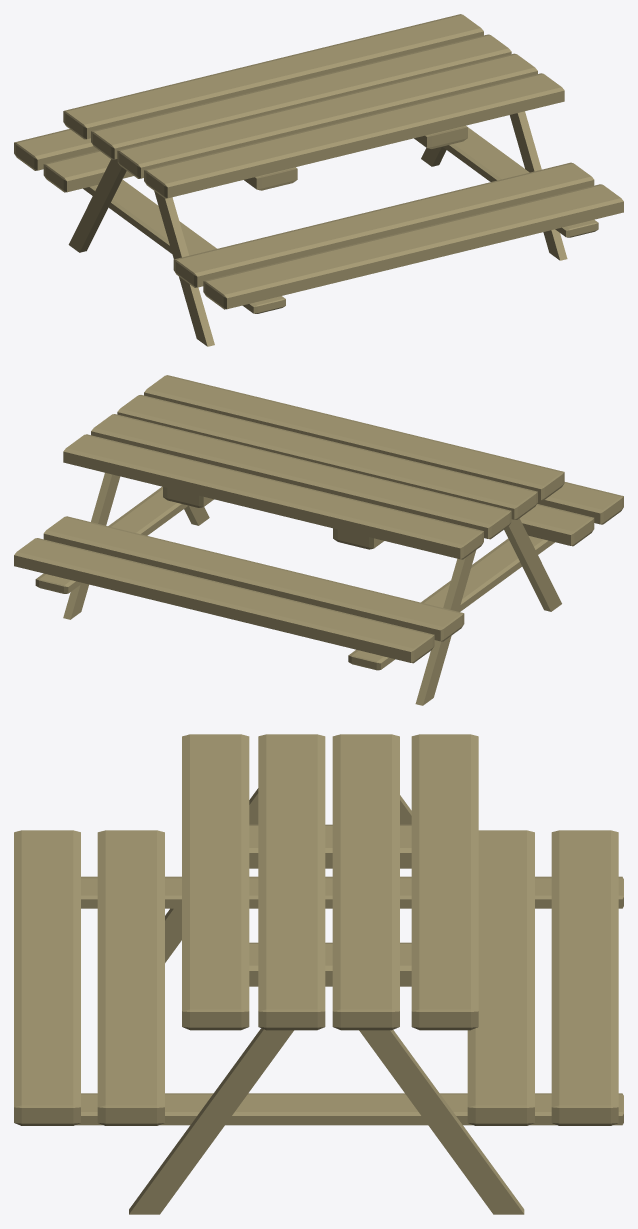
The model's file is picnicbench.fbx.
3 renders of one model, top to bottom at view 1: azimuth 30°, elevation 25°; view 2: azimuth 150°, elevation 25°; view 3: azimuth 270°, elevation 25°, orthographic. The views are drawn at different scales.
Parts seen in each view (by area): view 1: picnicbench; view 2: picnicbench; view 3: picnicbench.
Part boxes in pixels (box(x1,y1,x2,y2)): picnicbench: box(14, 14, 623, 346); picnicbench: box(14, 375, 623, 705); picnicbench: box(14, 734, 623, 1214).
Size of the model in its own units: 5253 by 1918 by 4903.
